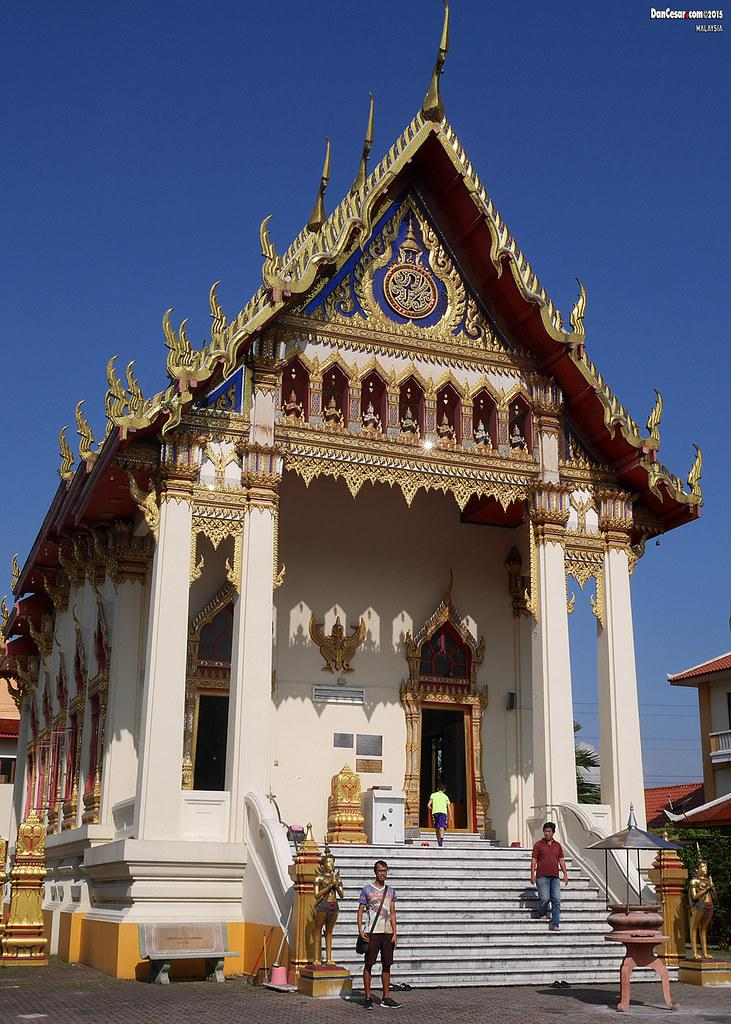temple: (2, 2, 708, 994)
